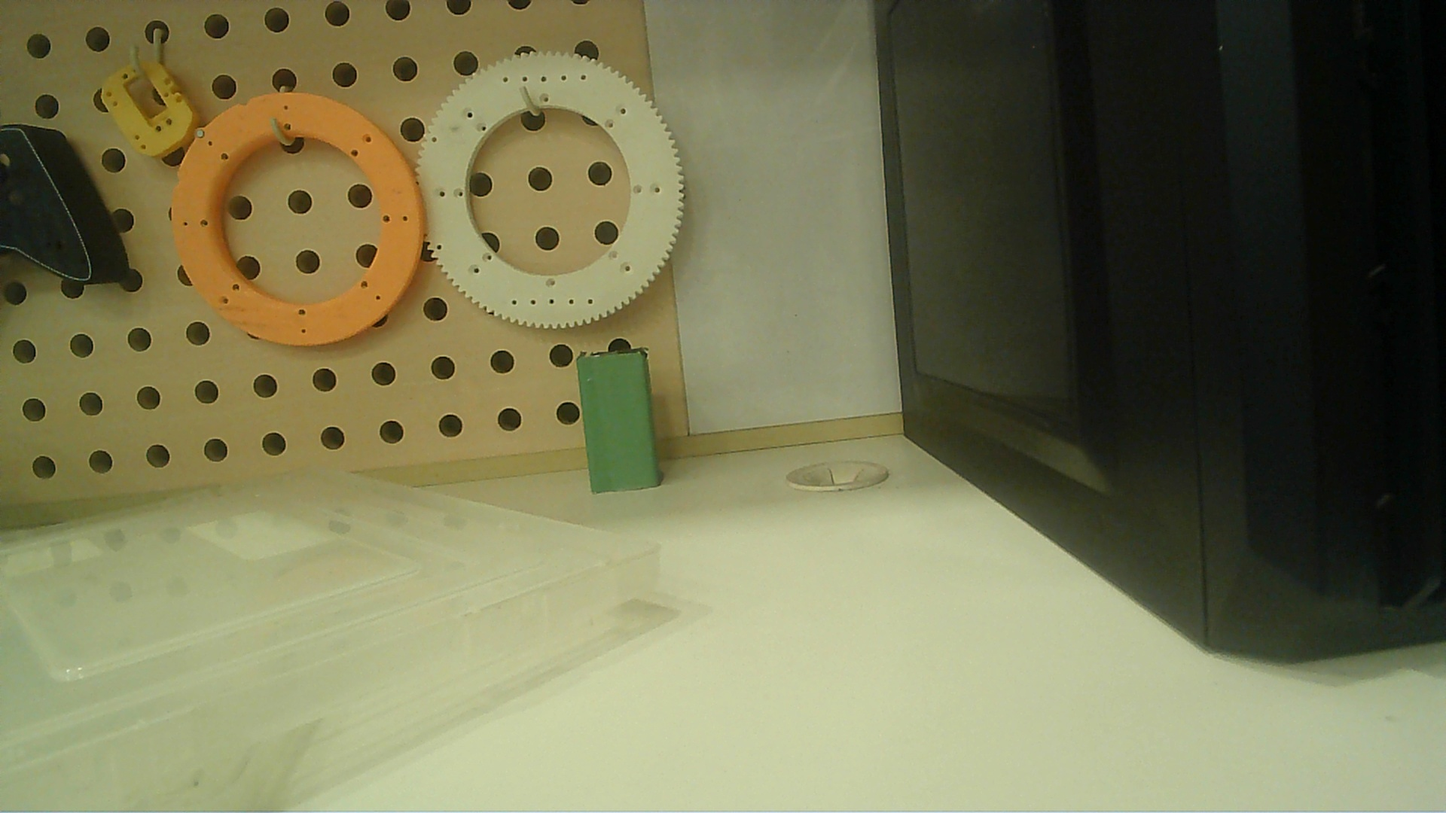green: (573, 342, 669, 504)
